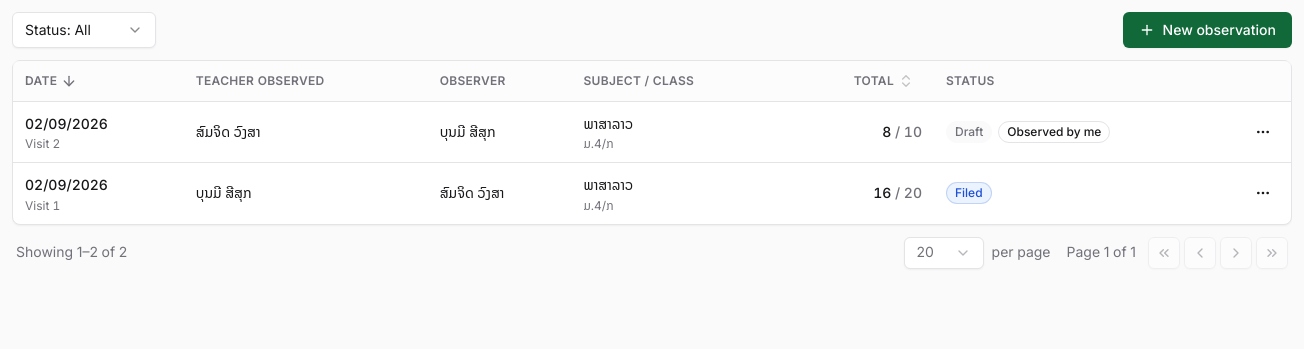
it: the sheet list › offers acknowledging only on the sheet written about the signed-in teacher
This screenshot has width=1304, height=349.
Click the button named "Actions" in the row of "Visit 2" at (1263, 132), box [1247,116,1279,148]
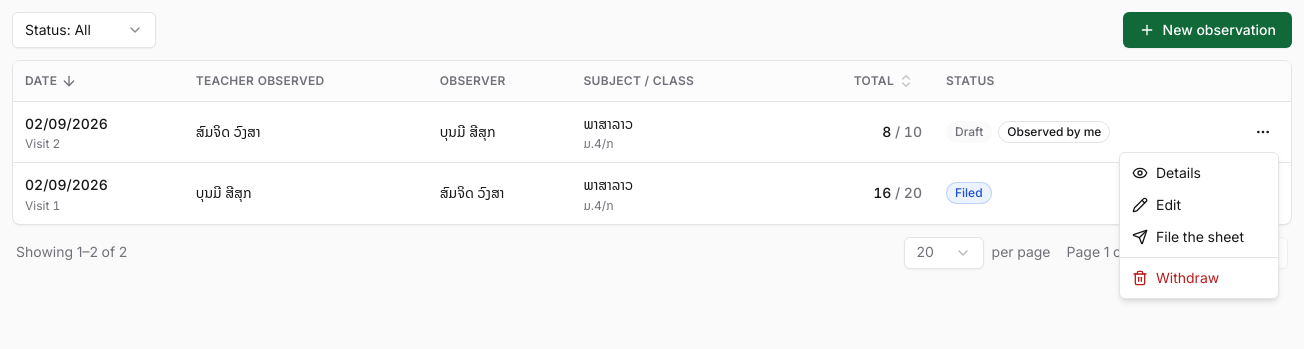
Expected: the menu item "confirm i have read" is not shown
Now the menu item "File the sheet" is shown, box [1132,225,1244,248]
Press Escape
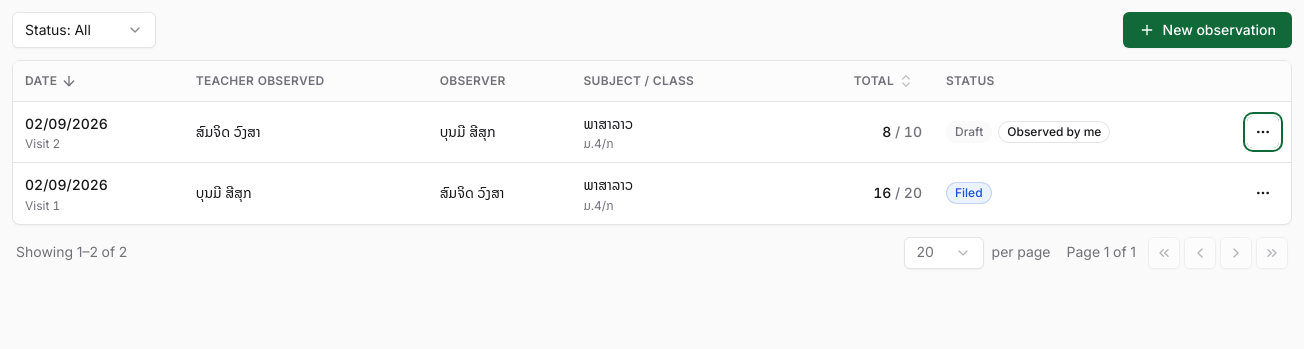
Click the button named "Actions" in the row of "Visit 1" at (1263, 193), box [1247,177,1279,209]
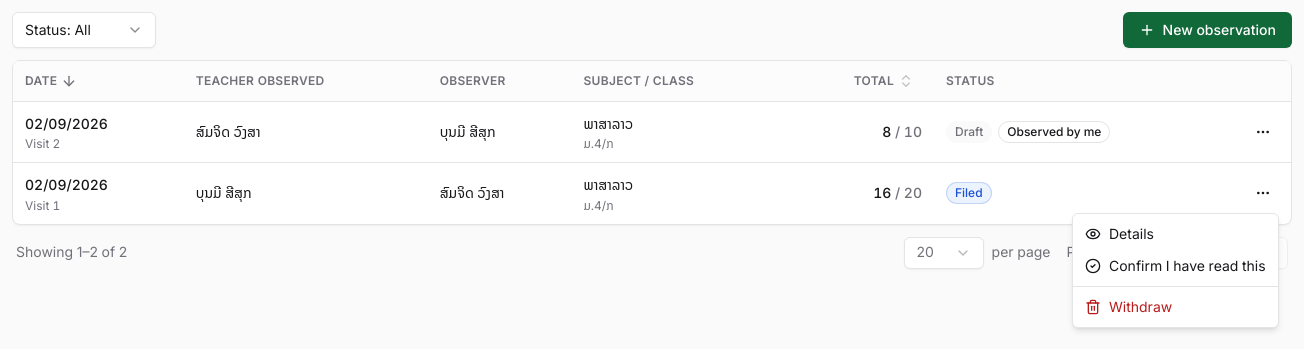
Expected: the menu item "Edit" is not shown
Now the menu item "Confirm I have read this" is shown, box [1077,250,1274,282]
